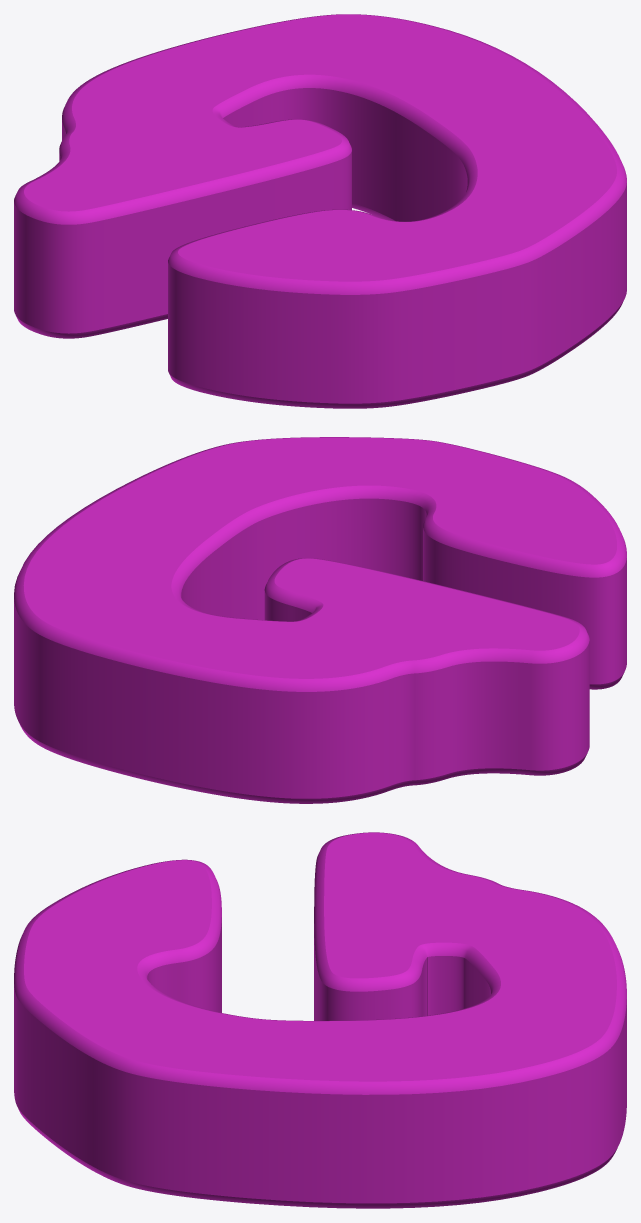
The model's file is Bubble_LetterG.fbx.
3 views of the same model, one above another, from view 1: azimuth 30°, elevation 25°; view 2: azimuth 150°, elevation 25°; view 3: azimuth 270°, elevation 25° (orthographic).
Parts seen in each view (by area): view 1: BubbleLetter_G; view 2: BubbleLetter_G; view 3: BubbleLetter_G.
Part boxes in pixels (left/top/right/bottom): BubbleLetter_G: left=14, top=14, right=626, bottom=408; BubbleLetter_G: left=14, top=437, right=626, bottom=803; BubbleLetter_G: left=14, top=832, right=626, bottom=1208.
Size of the model in its own units: 0.6097 by 0.14 by 0.6138.
